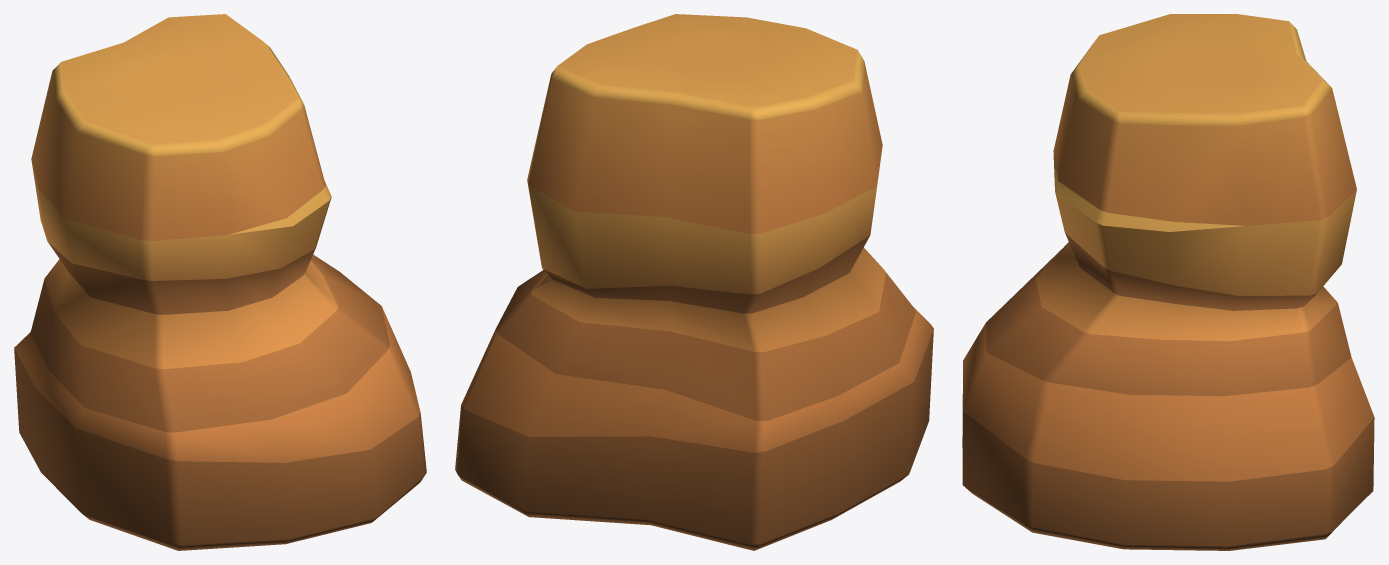
Rendered from rock_formation_light_07.fbx.
3 views of the same model, side by side, from view 1: azimuth 30°, elevation 25°; view 2: azimuth 150°, elevation 25°; view 3: azimuth 270°, elevation 25° (orthographic). The views are drawn at different scales.
Visible parts, largest first — view 1: rock_formation_light_07; view 2: rock_formation_light_07; view 3: rock_formation_light_07.
Boxes of the visible parts, x1=… form: rock_formation_light_07: x1=14, y1=14, x2=426, y2=550; rock_formation_light_07: x1=455, y1=14, x2=933, y2=550; rock_formation_light_07: x1=962, y1=14, x2=1374, y2=550.
Size of the model in its own units: 539 by 582 by 547.
